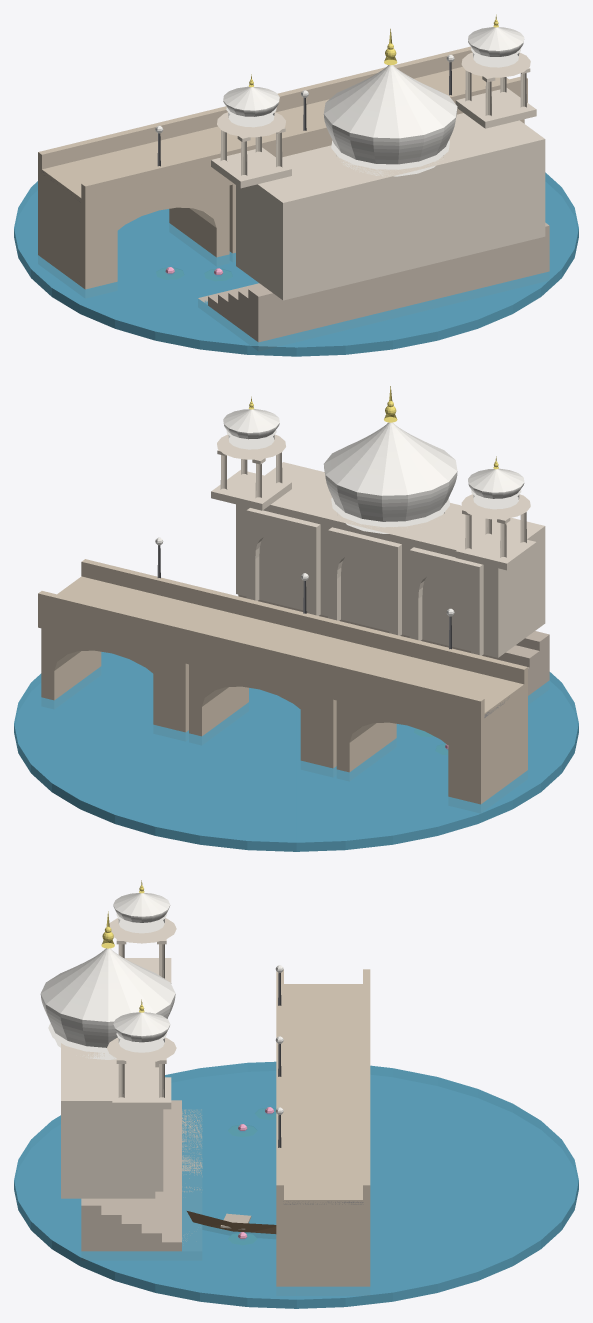
The model's file is lower_lake_bhopal.glb.
The picture shows the model from 3 angles, top to bottom: view 1: azimuth 30°, elevation 25°; view 2: azimuth 150°, elevation 25°; view 3: azimuth 270°, elevation 25°; orthographic projection.
Visible parts, largest first — view 1: LowerLakeBhopal_Root; view 2: LowerLakeBhopal_Root; view 3: LowerLakeBhopal_Root.
Boxes of the visible parts, x1,y1,x2,y2 form: LowerLakeBhopal_Root: [14, 14, 578, 356]; LowerLakeBhopal_Root: [14, 386, 578, 851]; LowerLakeBhopal_Root: [14, 880, 578, 1308].
Size of the model in its own units: 2.3 by 1.25 by 2.3.
